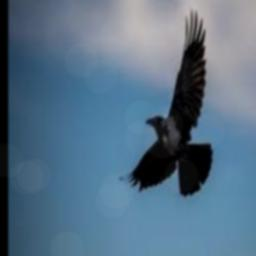Crow: (119, 9, 212, 196)
